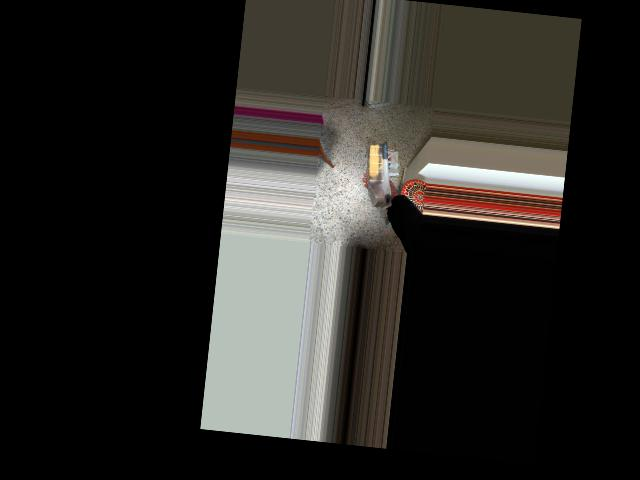cheese: (361, 141, 397, 207)
